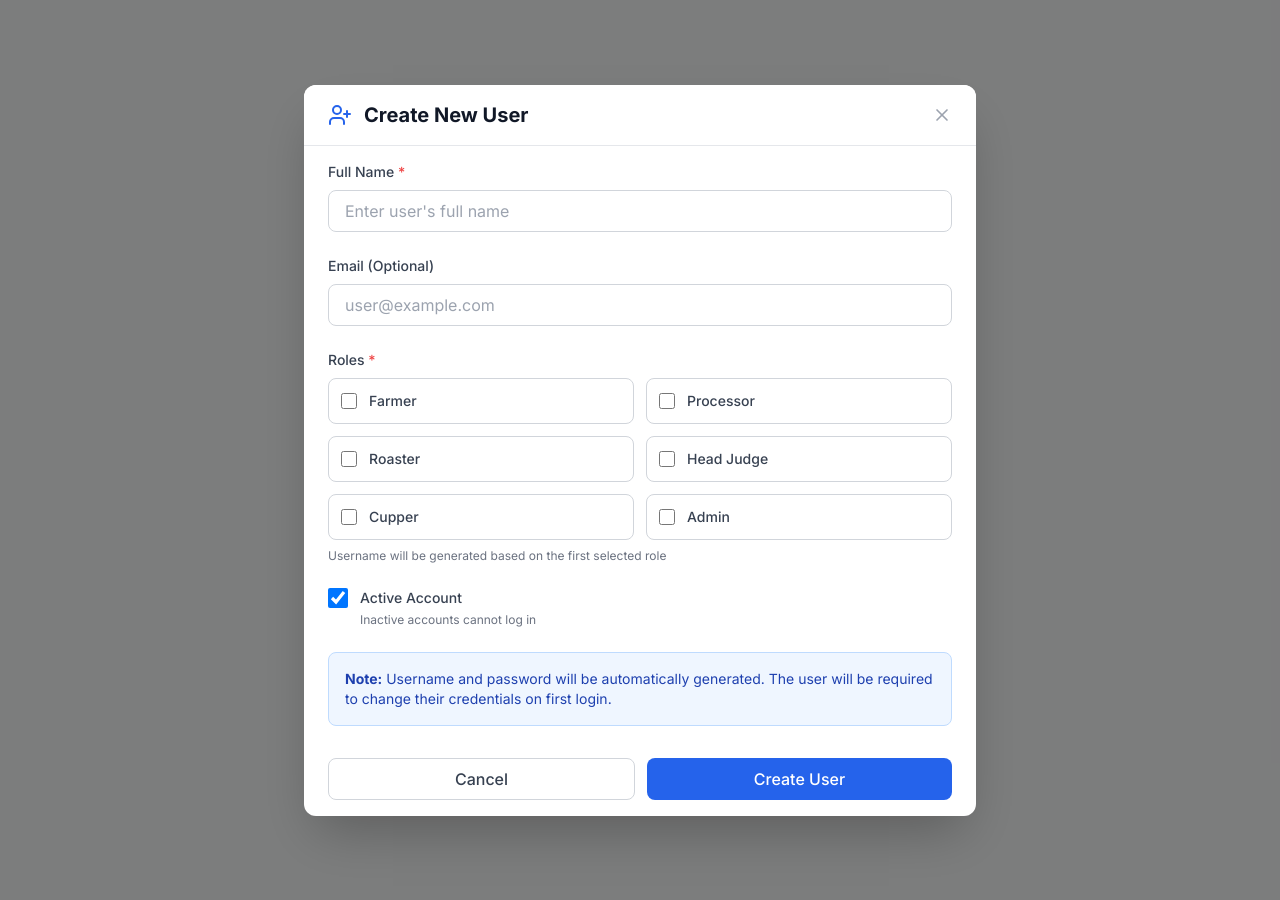
Test: Create User popup refreshes the list after a create › stays open, without refreshing, when the X is not confirmed
Type "New Farmer" into the field with placeholder "Enter user's full name" at [640, 210], box [328,190,952,232]
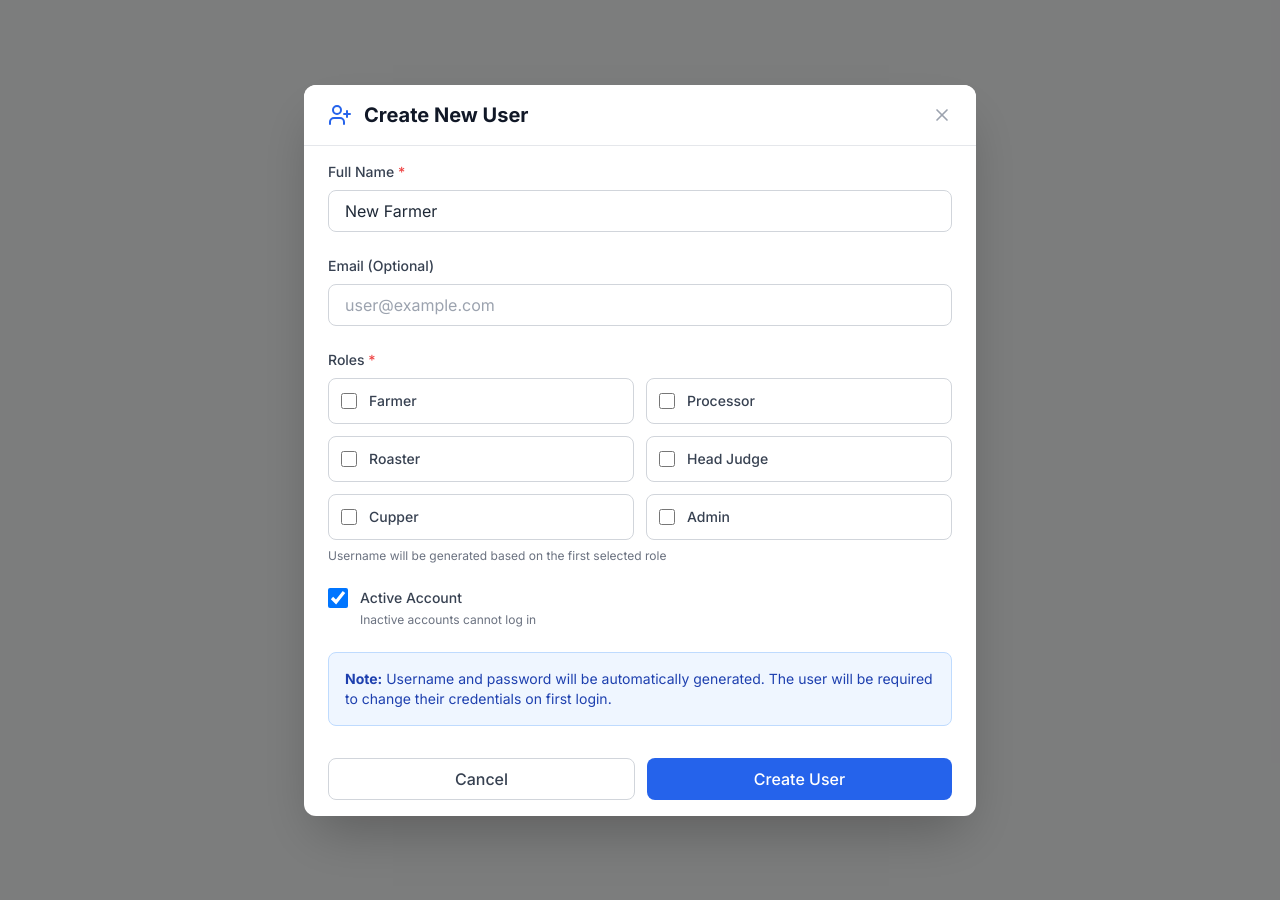
Click the checkbox labelled "Farmer" at [349, 400], box [341,392,357,408]
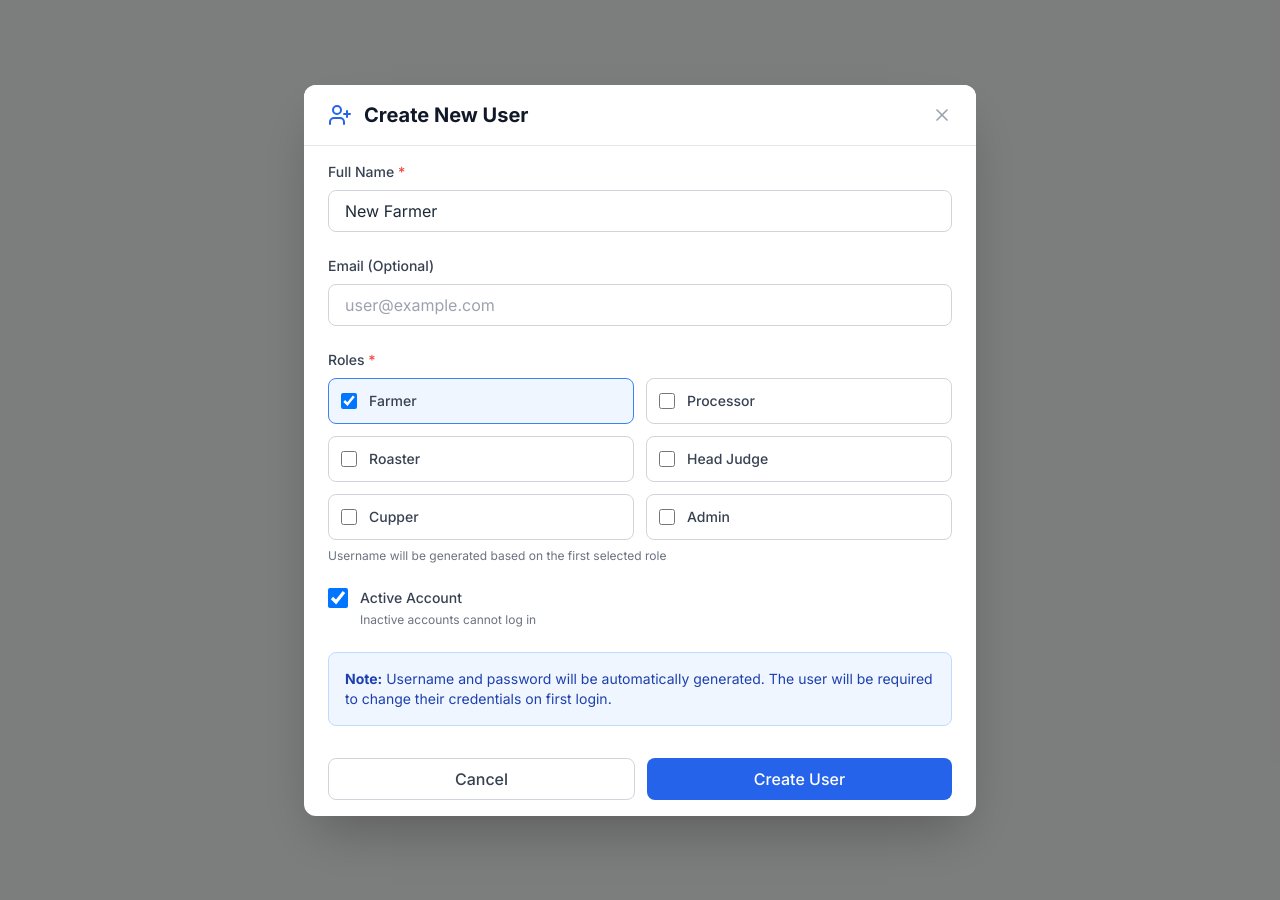
Click the button "Create User" at [800, 778], box [647,758,952,800]
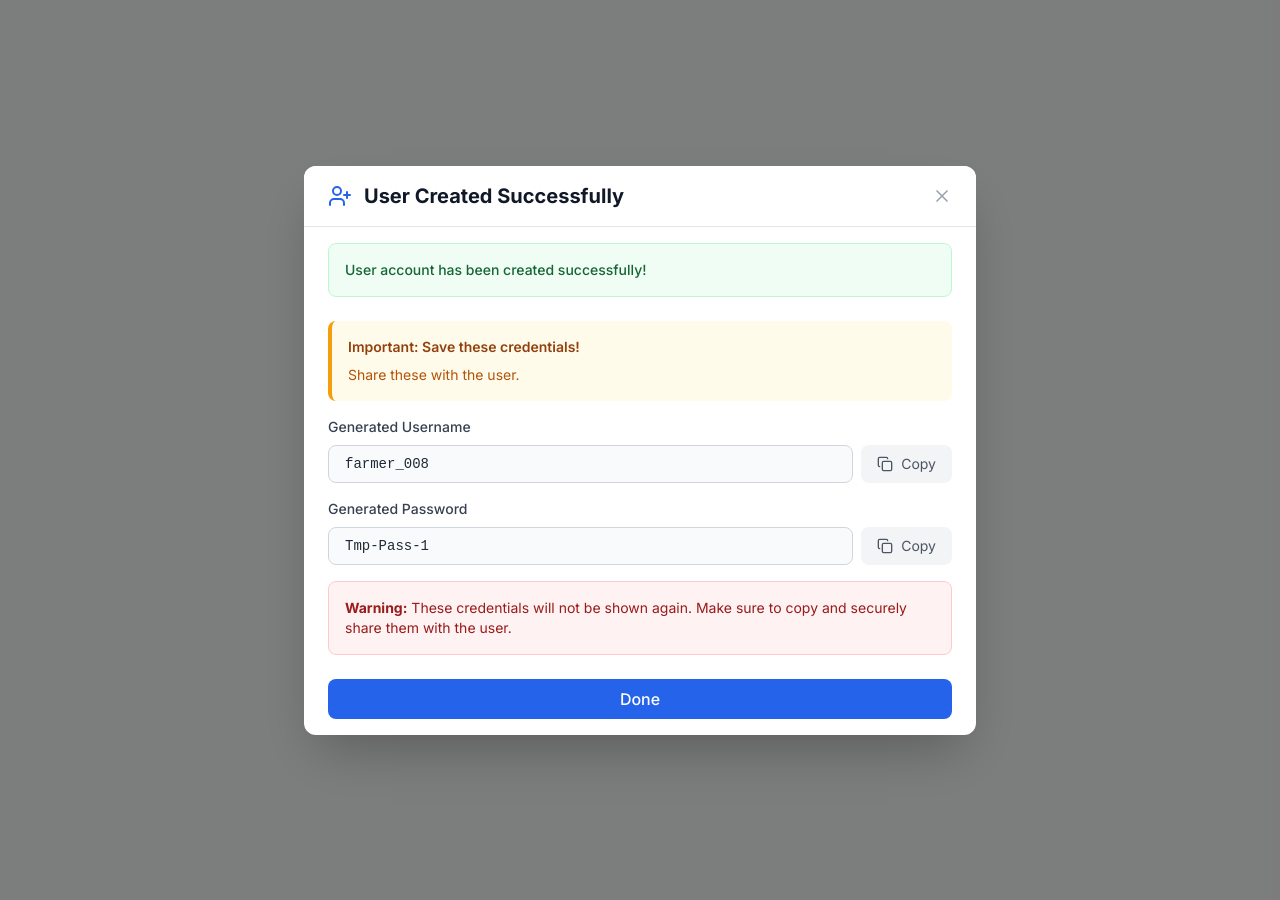
Click the button named "Close" at [942, 196], box [932,186,952,206]
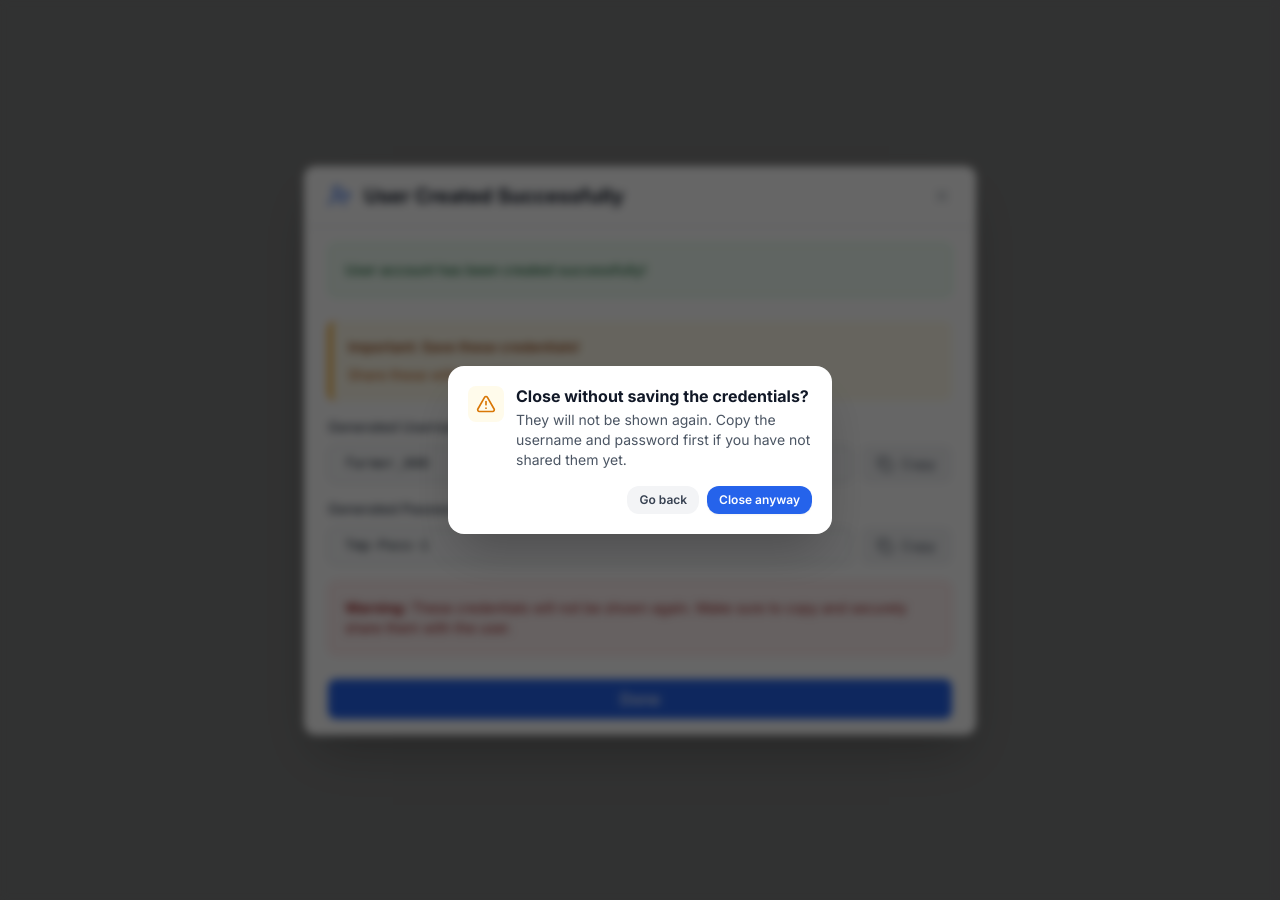
Click the button "Go back" at [663, 500], box [628,486,699,514]
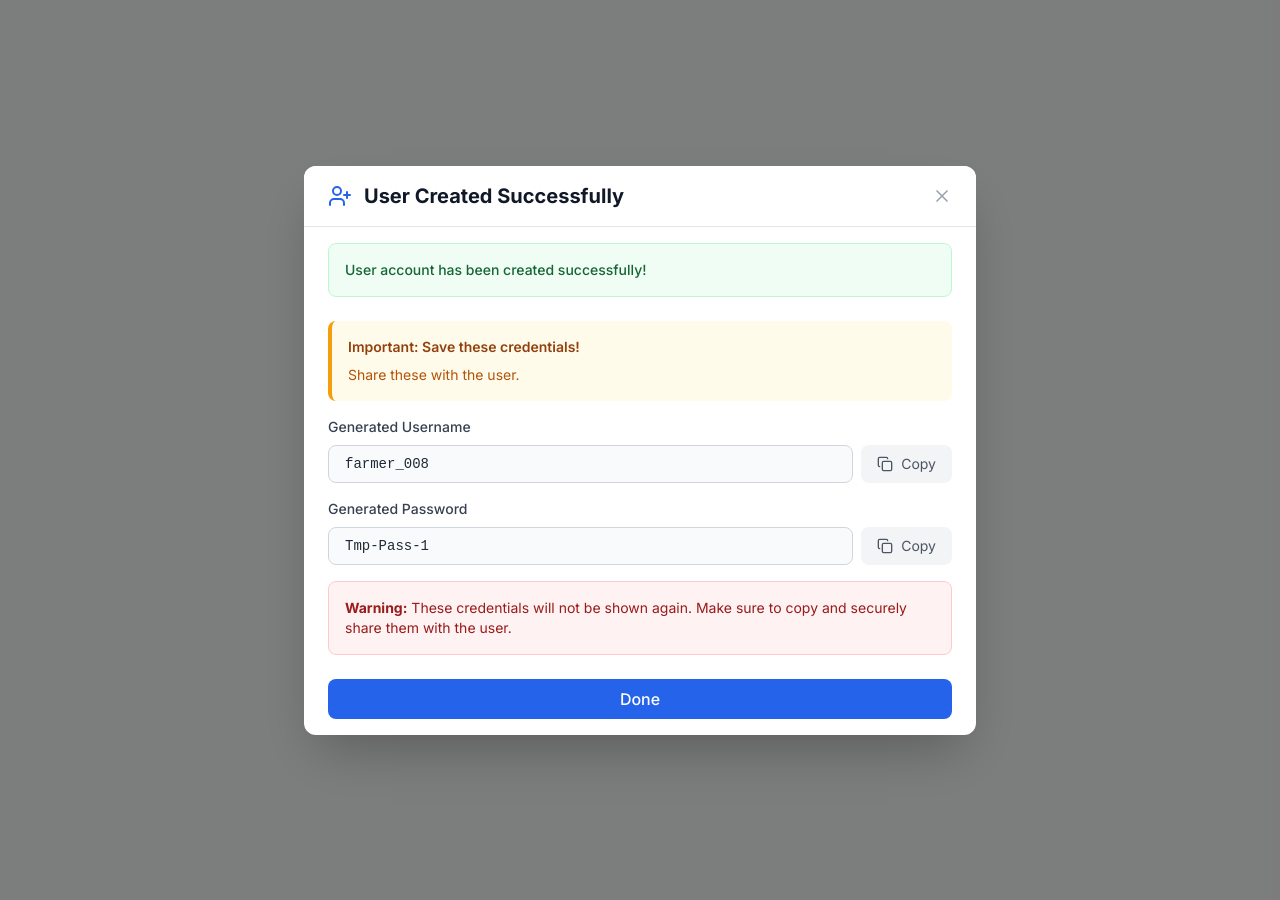
Expected: the heading "User Created Successfully" is shown, [364,182,624,210]
Expected: the heading "Close without saving the credentials?" is gone
